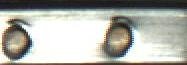joints: (85, 14, 138, 62), (0, 17, 35, 63)
